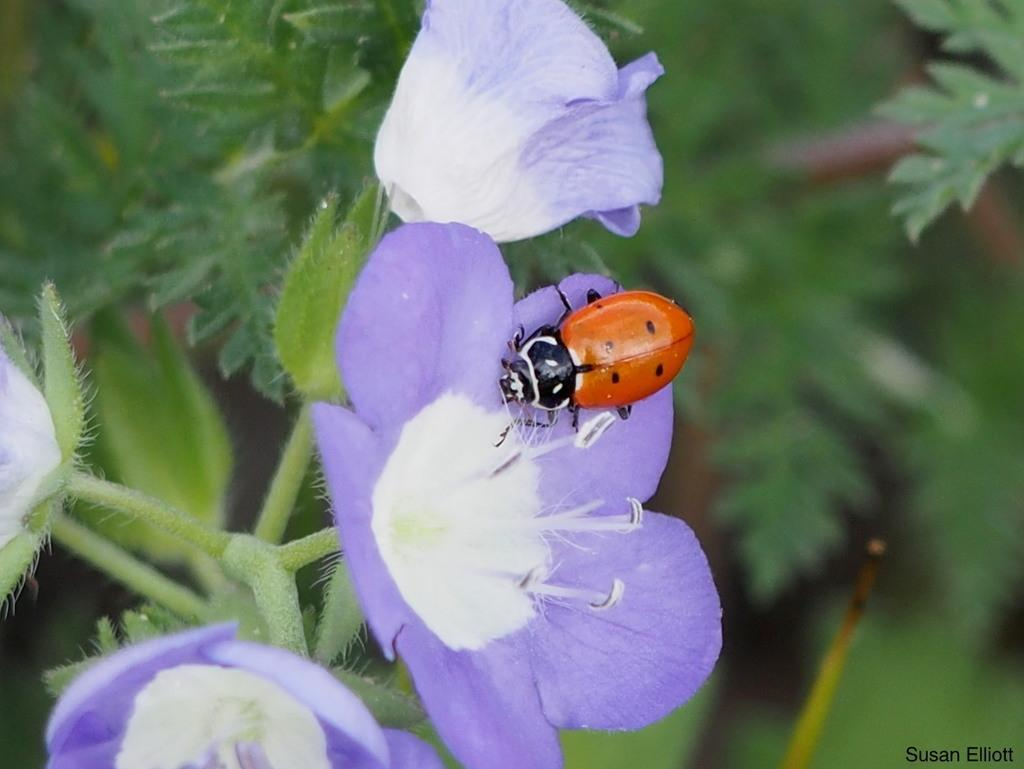ladybug: (491, 275, 703, 455)
